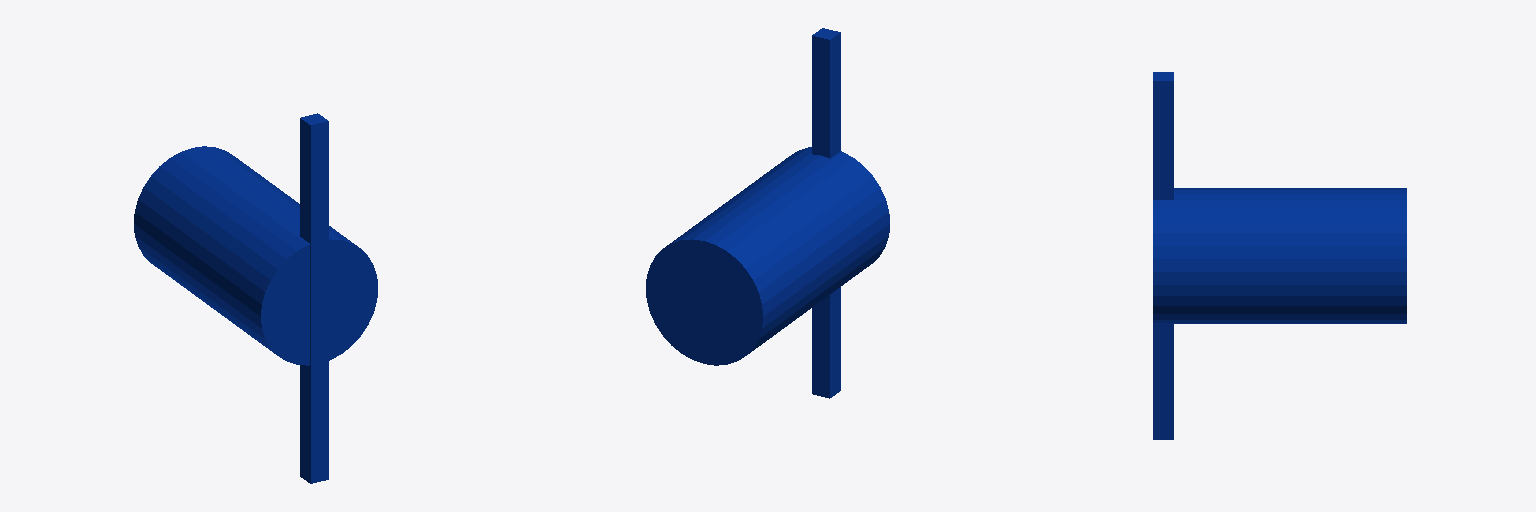
The model's file is arm_link5.OBJ.
3 views of the same model, side by side, from view 1: azimuth 30°, elevation 25°; view 2: azimuth 150°, elevation 25°; view 3: azimuth 270°, elevation 25° (orthographic).
Parts seen in each view (by area): view 1: arm_link5_Cylinder.006; view 2: arm_link5_Cylinder.006; view 3: arm_link5_Cylinder.006.
Boxes of the visible parts, x1,y1,x2,y2 form: arm_link5_Cylinder.006: [134, 113, 377, 483]; arm_link5_Cylinder.006: [646, 28, 889, 398]; arm_link5_Cylinder.006: [1153, 72, 1406, 439].
Bounding box in the file's own units: 0.2494 × 0.7272 × 0.4676.